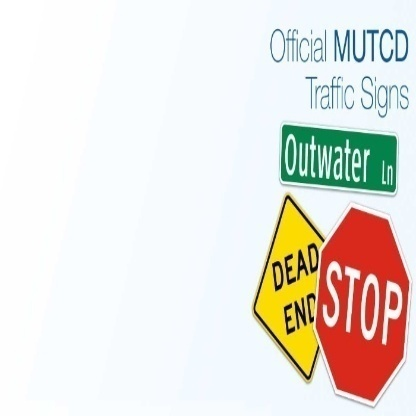stop: (315, 202, 413, 408)
